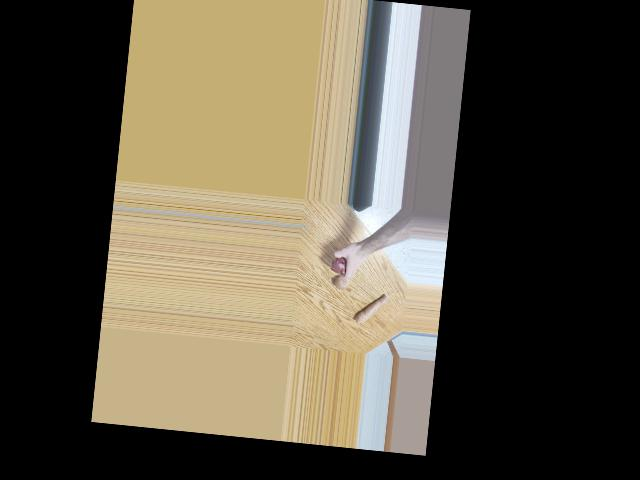onion: (334, 271, 354, 290)
